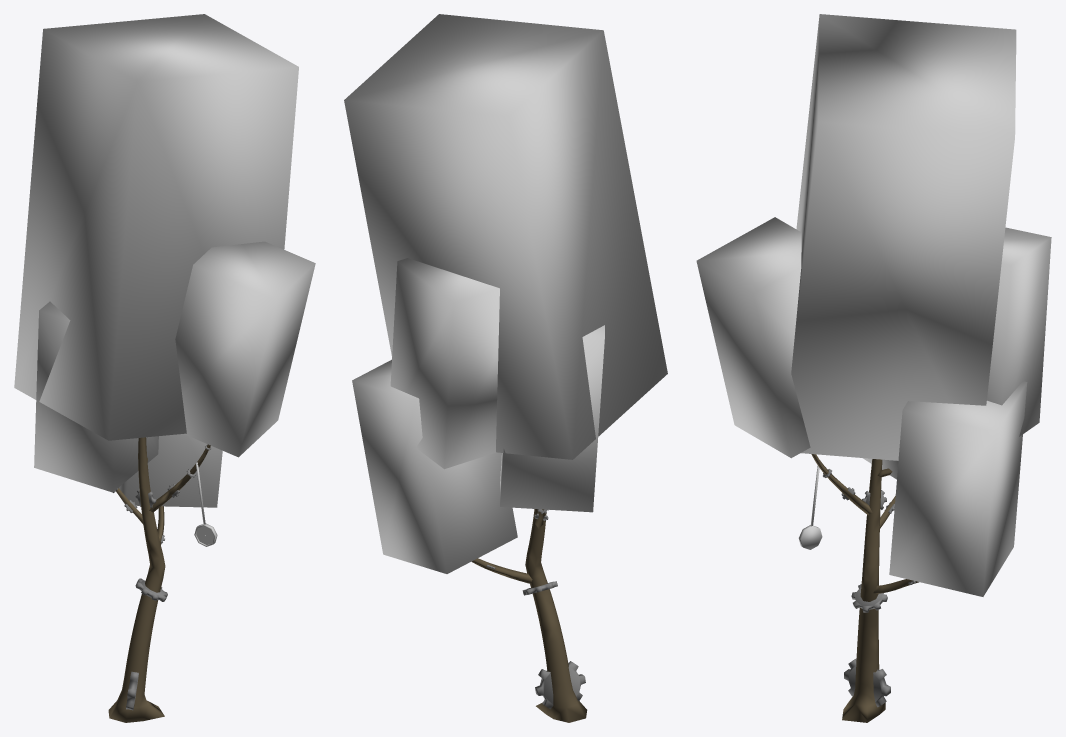
The model's file is sm_tree_clockwork_03_LOD0.fbx.
3 renders of one model, left to right at view 1: azimuth 30°, elevation 25°; view 2: azimuth 150°, elevation 25°; view 3: azimuth 270°, elevation 25°, orthographic. The views are drawn at different scales.
Visible parts, largest first — view 1: sm_tree_clockwork_03_LOD0; view 2: sm_tree_clockwork_03_LOD0; view 3: sm_tree_clockwork_03_LOD0.
Part boxes in pixels (<box>): sm_tree_clockwork_03_LOD0: <box>14,14,315,722</box>; sm_tree_clockwork_03_LOD0: <box>344,14,667,722</box>; sm_tree_clockwork_03_LOD0: <box>696,14,1051,722</box>.
Bounding box in the file's own units: 5.19 × 7.19 × 15.33.
